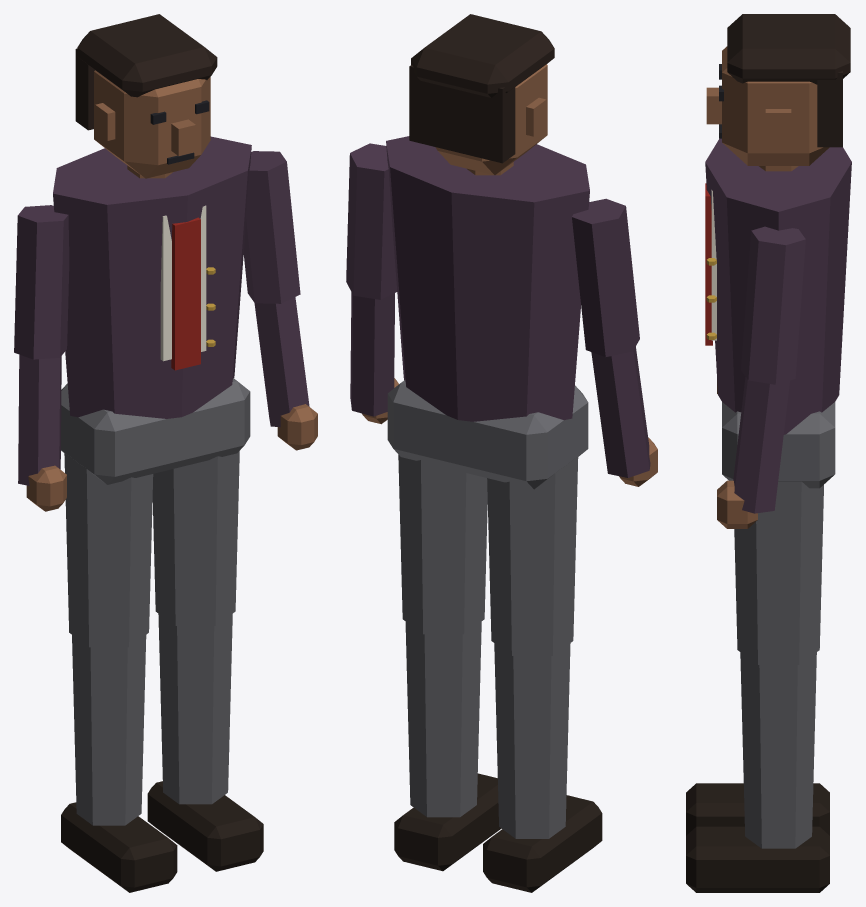
File: person.res-small-business.glb
3 views of the same model, side by side, from view 1: azimuth 30°, elevation 25°; view 2: azimuth 150°, elevation 25°; view 3: azimuth 270°, elevation 25° (orthographic). The views are drawn at different scales.
Visible parts, largest first — view 1: torso, thigh-1, thigh1, shin1, shin-1, hips, upper-1, hair, head, upper1, shoe-1, shoe1 (+9 smaller); view 2: torso, thigh-1, thigh1, shin1, shin-1, hips, upper-1, hair, hair-back, upper1, shoe-1, fore-1 (+4 smaller); view 3: torso, thigh1, shin1, upper1, shoe1, hair, head, fore1, hips, shoe-1, hair-back, hand1 (+4 smaller).
Part boxes in pixels (bbox=[...]): torso: bbox=[53, 136, 251, 418]; thigh-1: bbox=[64, 453, 153, 647]; thigh1: bbox=[152, 451, 239, 625]; shin1: bbox=[158, 613, 232, 804]; shin-1: bbox=[72, 635, 146, 825]; hips: bbox=[61, 378, 250, 484]; upper-1: bbox=[14, 205, 69, 359]; hair: bbox=[77, 14, 217, 97]; head: bbox=[94, 70, 210, 178]; upper1: bbox=[243, 151, 300, 303]; shoe-1: bbox=[61, 802, 177, 892]; shoe1: bbox=[147, 781, 263, 871]; torso: bbox=[386, 136, 589, 421]; thigh-1: bbox=[487, 456, 578, 655]; thigh1: bbox=[398, 454, 487, 634]; shin1: bbox=[405, 622, 481, 817]; shin-1: bbox=[494, 643, 570, 838]; hips: bbox=[387, 380, 588, 489]; upper-1: bbox=[572, 198, 639, 356]; hair: bbox=[411, 14, 554, 97]; hair-back: bbox=[409, 65, 515, 163]; upper1: bbox=[346, 143, 397, 299]; shoe-1: bbox=[483, 795, 602, 892]; fore-1: bbox=[591, 346, 650, 477]; torso: bbox=[705, 138, 851, 434]; thigh1: bbox=[734, 481, 823, 664]; shin1: bbox=[740, 652, 816, 848]; upper1: bbox=[741, 226, 805, 384]; shoe1: bbox=[686, 826, 829, 892]; hair: bbox=[727, 14, 850, 84]; head: bbox=[722, 46, 829, 165]; fore1: bbox=[733, 377, 789, 513]; hips: bbox=[722, 402, 835, 488]; shoe-1: bbox=[686, 783, 829, 835]; hair-back: bbox=[817, 71, 842, 147]; hand1: bbox=[717, 480, 757, 528].
Size of the model in its own units: 0.6746 by 1.78 by 0.3226.
